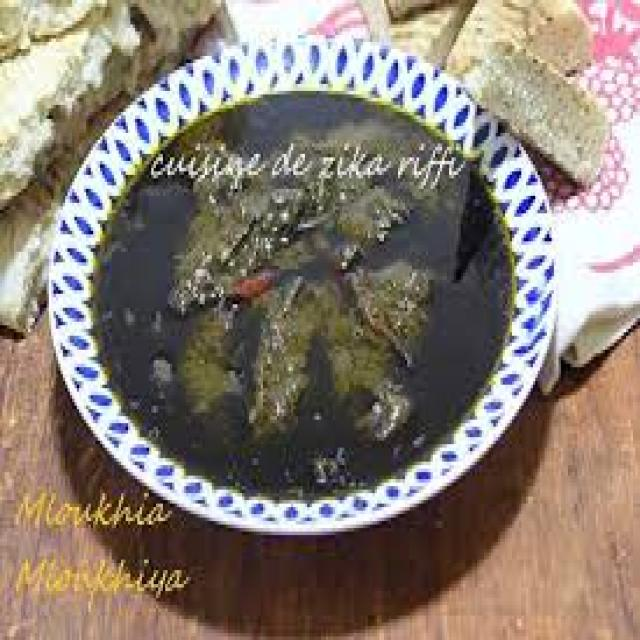Melloukhia: (74, 45, 556, 561)
